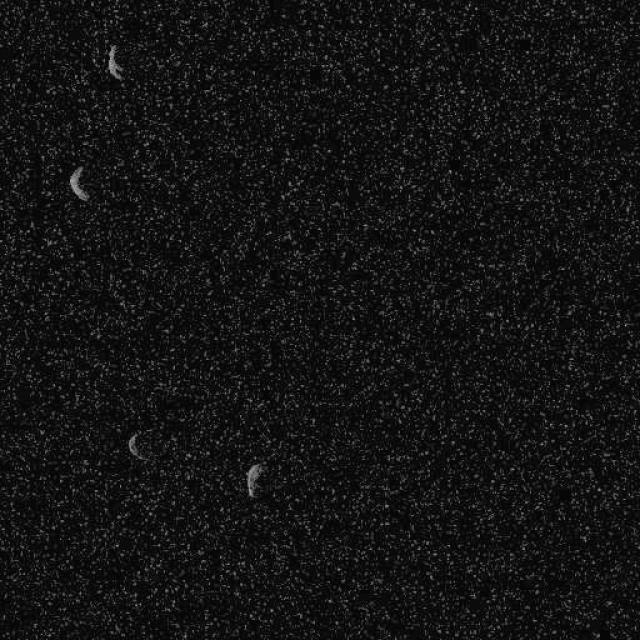D2: (245, 461, 267, 499), (68, 164, 90, 202), (105, 42, 124, 82), (126, 430, 150, 461)
